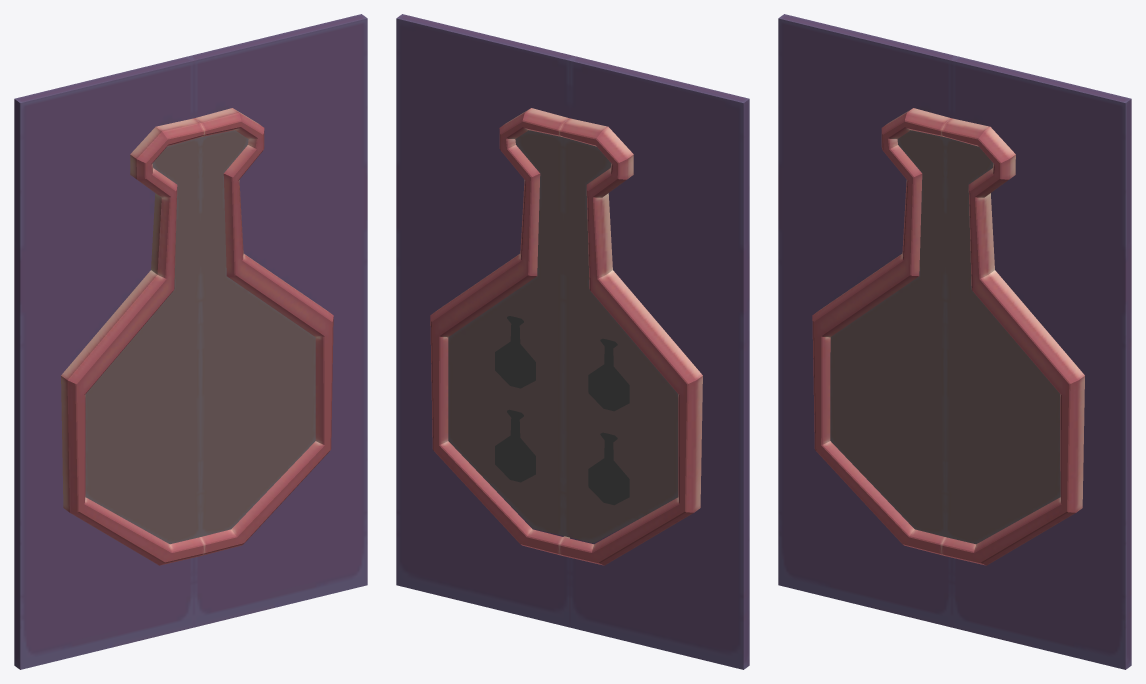
Rendered from POT_Door_4_Variant.fbx.
3 views of the same model, side by side, from view 1: azimuth 30°, elevation 25°; view 2: azimuth 150°, elevation 25°; view 3: azimuth 330°, elevation 25° (orthographic).
Visible parts, largest first — view 1: RIGHT, LEFT, Grey (×2), Rim (×2); view 2: RIGHT, LEFT, Grey (×2), Rim (×2), POT_ICON (×2), POT_ICON (2), POT_ICON (1); view 3: LEFT, RIGHT, Grey (×2), Rim (×2).
Part boxes in pixels (x1,y1,x2,y2): RIGHT: [14, 56, 193, 669]; LEFT: [188, 14, 367, 627]; Grey (×2): [85, 130, 315, 544]; Rim (×2): [61, 108, 333, 565]; RIGHT: [570, 56, 749, 669]; LEFT: [396, 14, 575, 627]; Grey (×2): [448, 130, 678, 543]; Rim (×2): [430, 108, 702, 565]; POT_ICON (×2): [495, 316, 629, 411]; POT_ICON (2): [588, 432, 629, 505]; POT_ICON (1): [495, 409, 535, 482]; LEFT: [952, 56, 1131, 669]; RIGHT: [778, 14, 957, 627]; Grey (×2): [830, 130, 1060, 544]; Rim (×2): [812, 108, 1084, 565].
Size of the model in its own units: 6.5 by 10.14 by 0.8736.
